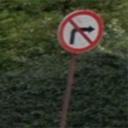NoVirarDireita: (58, 9, 104, 55)
